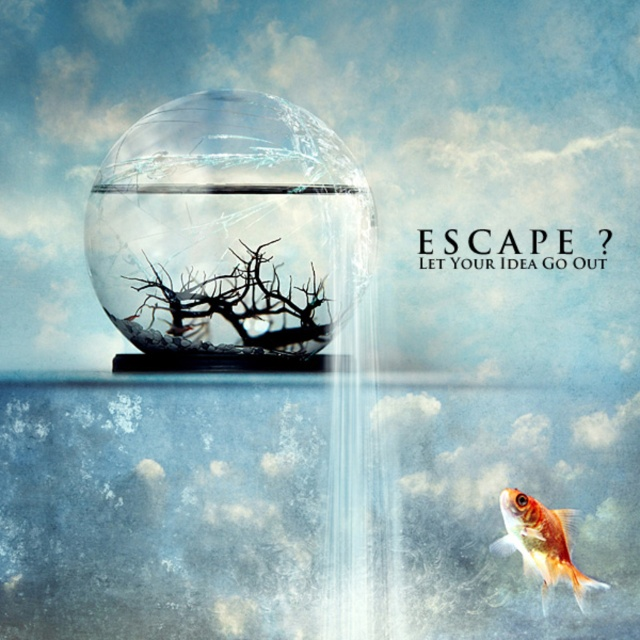Goldfish: (490, 489, 607, 618)
